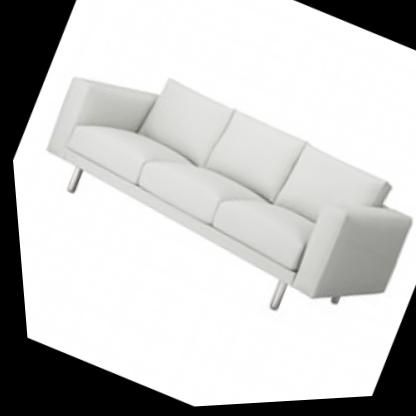Sofa: (2, 11, 416, 376)
